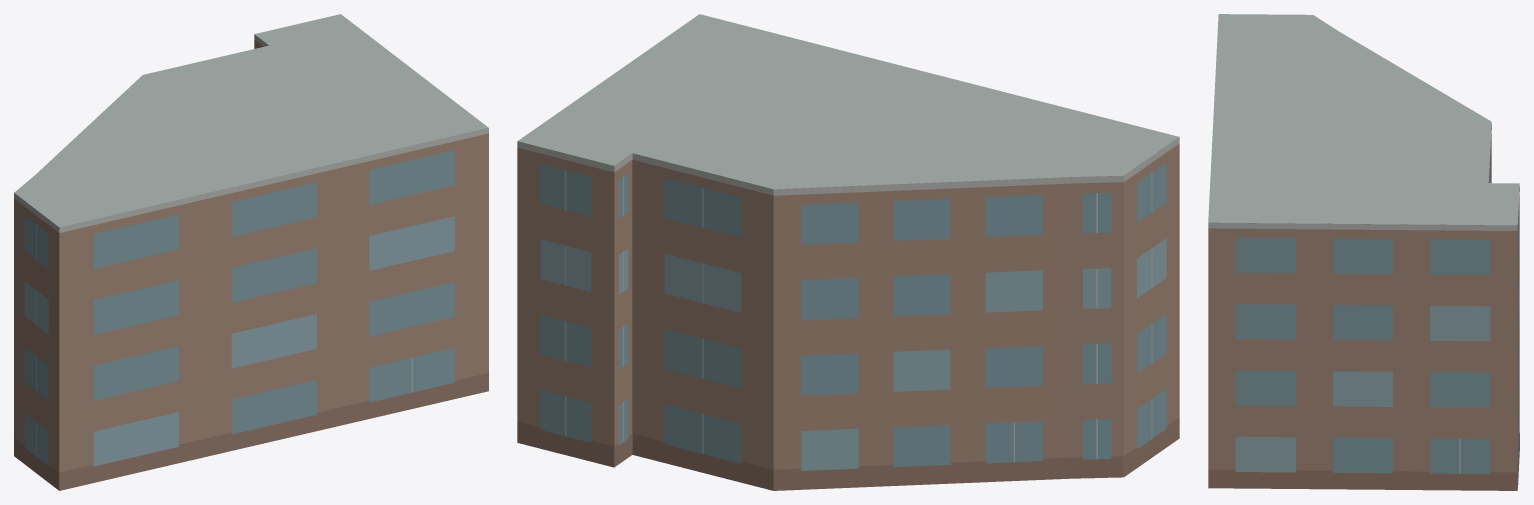
Rendered from survey-upis-32908848.glb.
3 views of the same model, side by side, from view 1: azimuth 30°, elevation 25°; view 2: azimuth 150°, elevation 25°; view 3: azimuth 270°, elevation 25° (orthographic). The views are drawn at different scales.
Parts seen in each view (by area): view 1: survey-upis-32908848.tmp; view 2: survey-upis-32908848.tmp; view 3: survey-upis-32908848.tmp.
Boxes of the visible parts, x1,y1,x2,y2 form: survey-upis-32908848.tmp: (14,14,488,490); survey-upis-32908848.tmp: (517,14,1179,490); survey-upis-32908848.tmp: (1208,14,1519,490).
Bounding box in the file's own units: 19.39 × 11.35 × 12.09.
